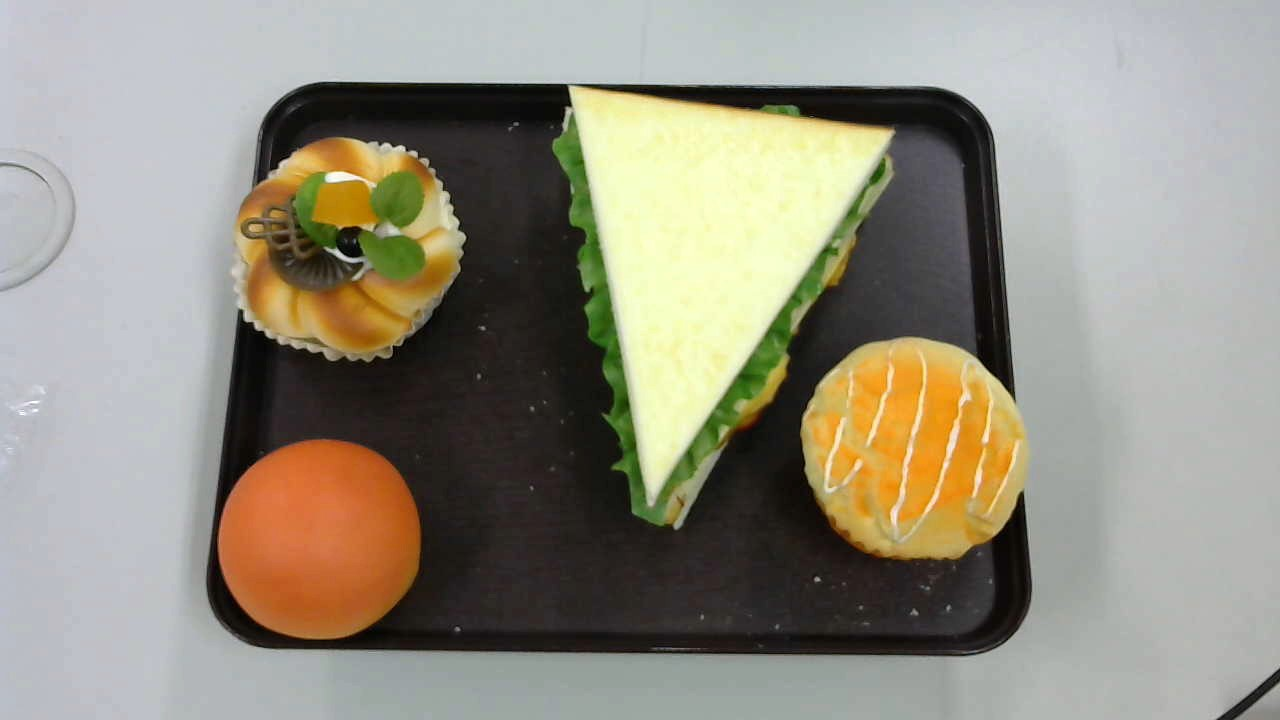bun: (218, 437, 421, 641)
cupcake: (800, 336, 1031, 563)
fruit tart: (229, 136, 467, 363)
sandwich: (552, 85, 896, 536)
